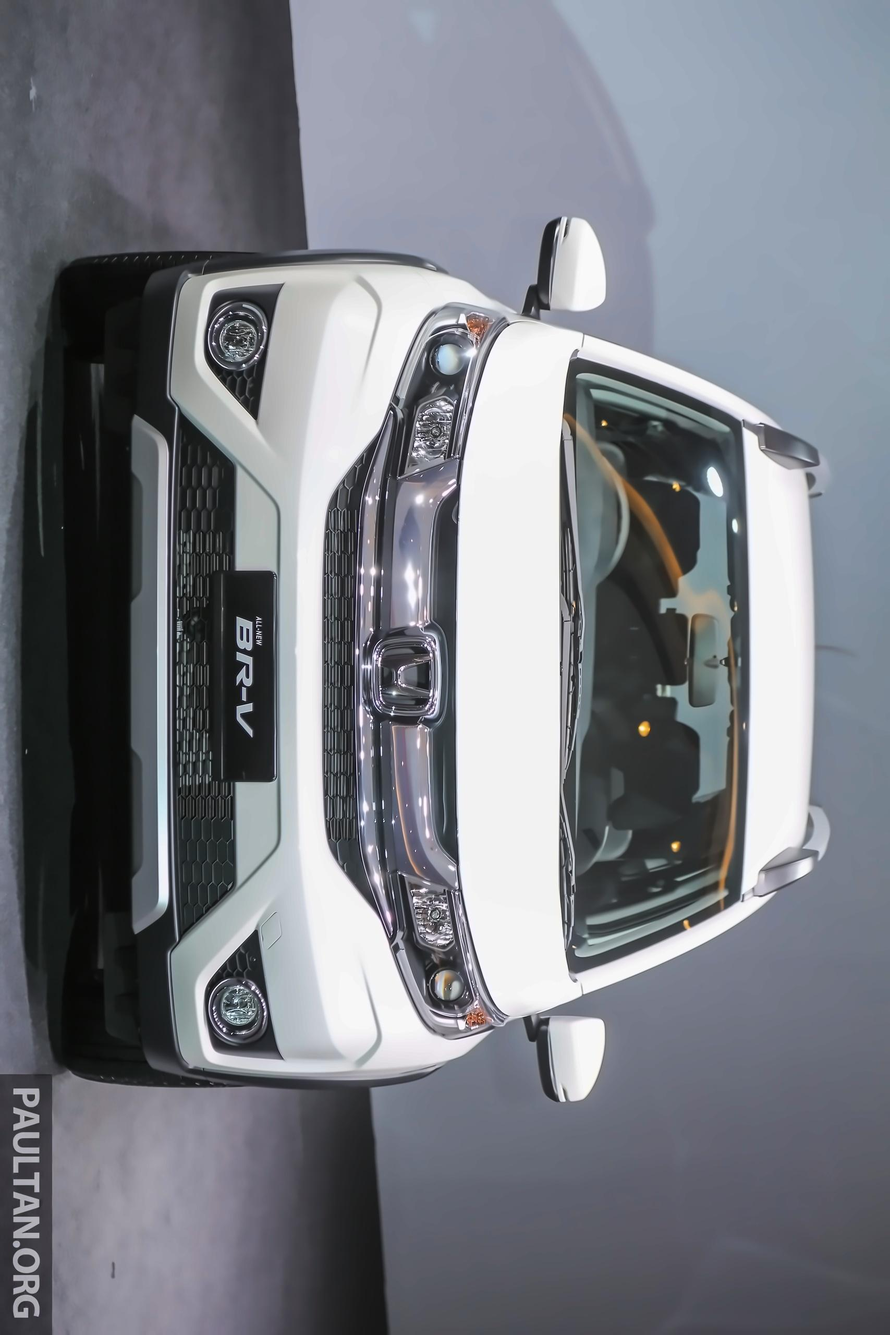Car hood: (448, 297, 595, 1045)
Front bumper: (73, 242, 401, 1100)
Headlight - -L-: (383, 867, 509, 1040)
Headlight - -R-: (379, 295, 519, 482)
Side mirror - -L-: (535, 1012, 608, 1105)
Side mirror - -R-: (530, 215, 617, 314)
